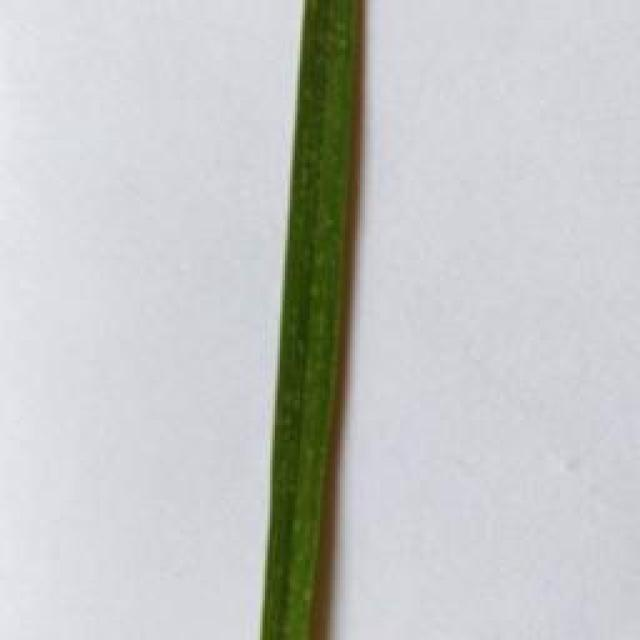Bacterial_Blight: (258, 0, 351, 640)
